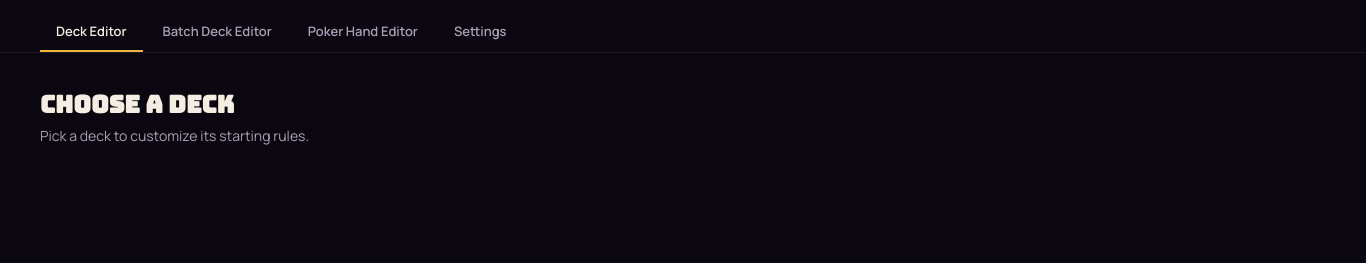
Scenario: MainTabs › switches to the poker hand editor flow when its tab is clicked
Expected: the heading "Choose a deck" is shown, [40,89,234,120]
Click the tab "Poker Hand Editor" at (363, 32), box [292,12,434,52]
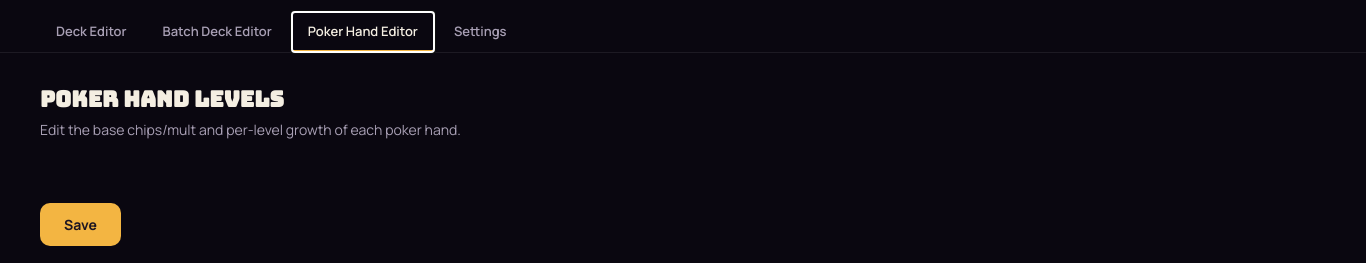
Now the heading "Poker hand levels" is shown, box [40,85,284,114]
